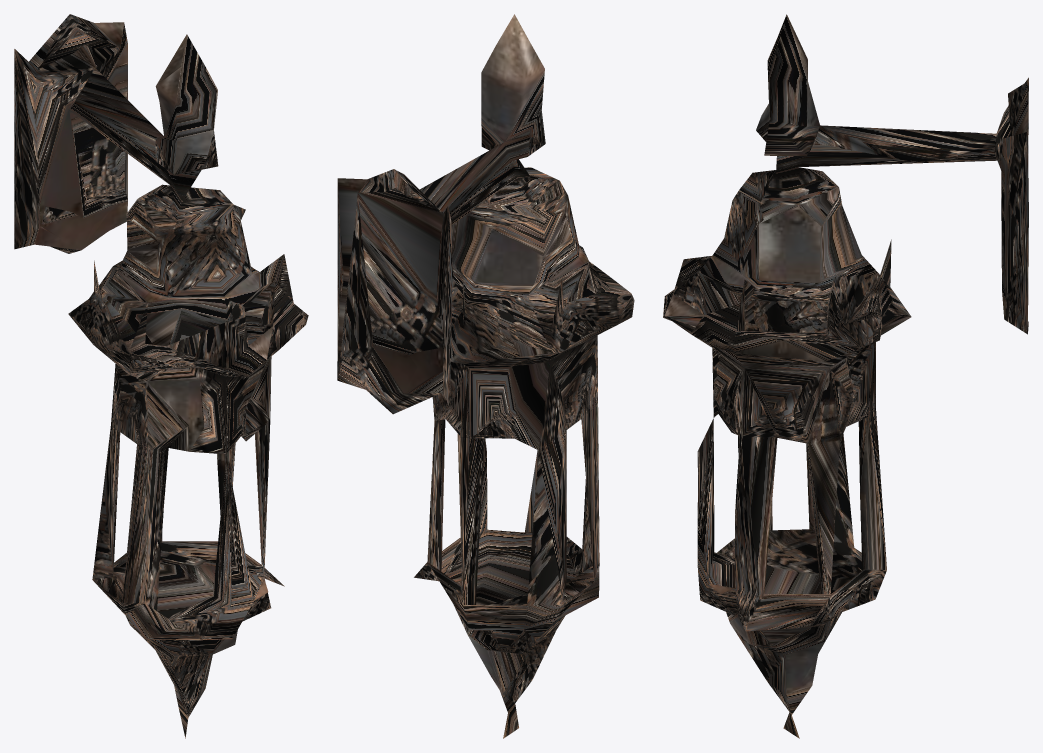
The model's file is meshy_lantern_wall_iron_lod1.glb.
The picture shows the model from 3 angles, left to right: view 1: azimuth 30°, elevation 25°; view 2: azimuth 150°, elevation 25°; view 3: azimuth 270°, elevation 25°; orthographic projection.
Size of the model in its own units: 0.225 by 0.7967 by 0.3656.
1 material, 1 textured.
